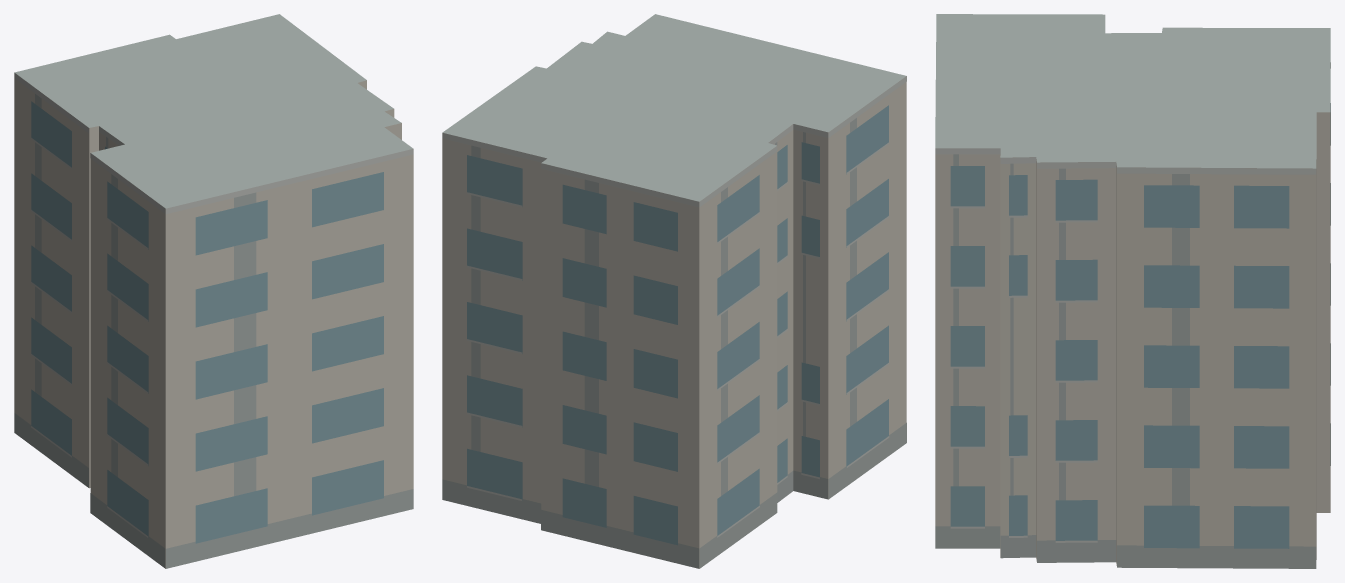
File: survey-upis-33026389.glb
3 views of the same model, side by side, from view 1: azimuth 30°, elevation 25°; view 2: azimuth 150°, elevation 25°; view 3: azimuth 270°, elevation 25° (orthographic). The views are drawn at different scales.
Visible parts, largest first — view 1: survey-upis-33026389.tmp; view 2: survey-upis-33026389.tmp; view 3: survey-upis-33026389.tmp.
Part boxes in pixels (left/top/right/bottom): survey-upis-33026389.tmp: left=14, top=14, right=413, bottom=568; survey-upis-33026389.tmp: left=442, top=14, right=906, bottom=568; survey-upis-33026389.tmp: left=935, top=14, right=1330, bottom=568.
Bounding box in the file's own units: 12.83 × 15.5 × 13.89.
